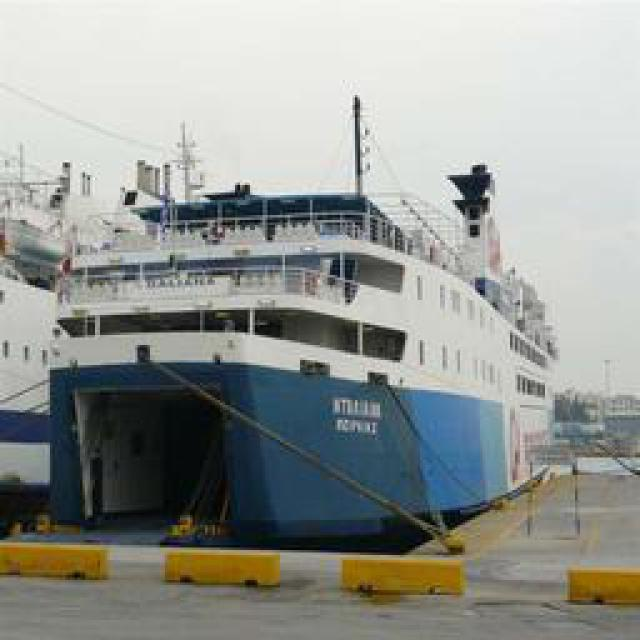Ship: (30, 83, 585, 588)
